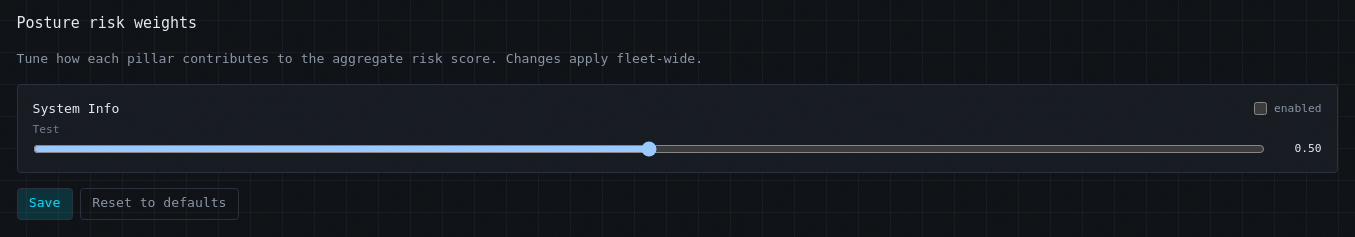
Test case: PosturePage › resets weights and enabled to defaults on reset button
The width and height of the screenshot is (1355, 237).
Expected: the slider holds "0.5", [32,141,1265,157]
Click the button "Reset to defaults" at (159, 204), box [80,188,239,220]
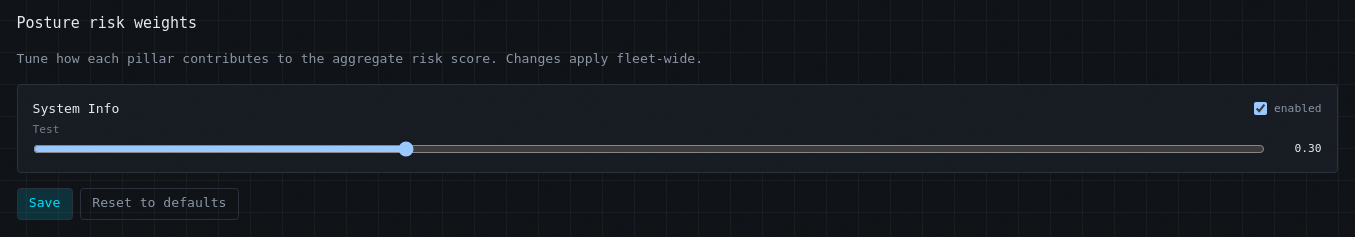
Expected: the slider holds "0.3", [32,141,1265,157]
Expected: the checkbox is checked, [1254,102,1267,115]
